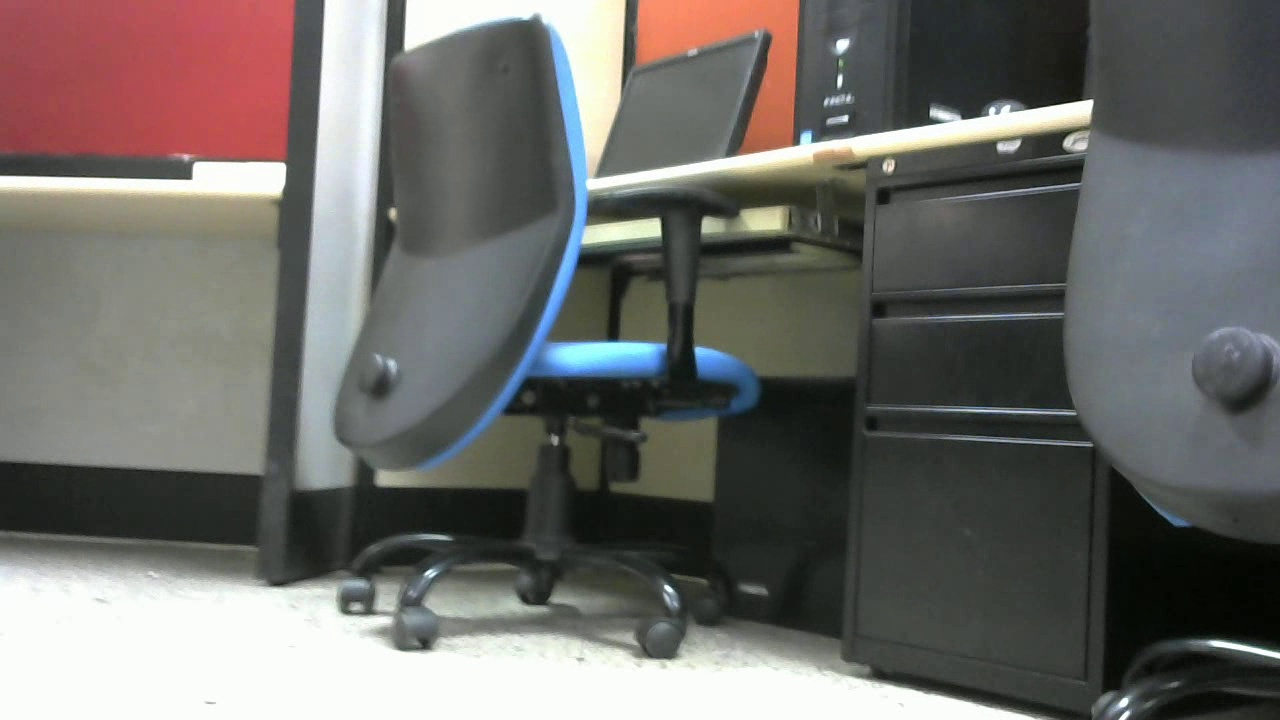chair: (333, 27, 760, 656), (1063, 1, 1280, 720)
